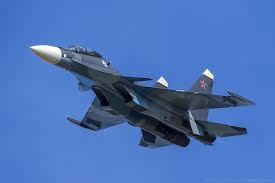maybay_muctieu: (28, 36, 250, 150)
